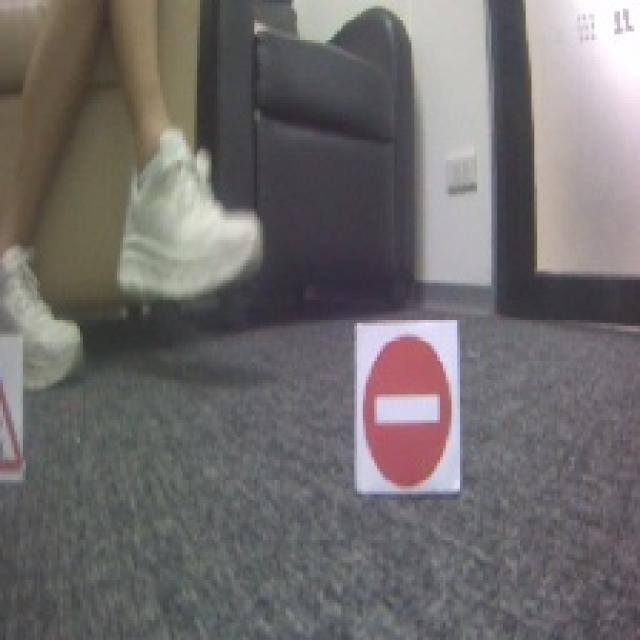DoNotEnterSign: (363, 331, 454, 489)
